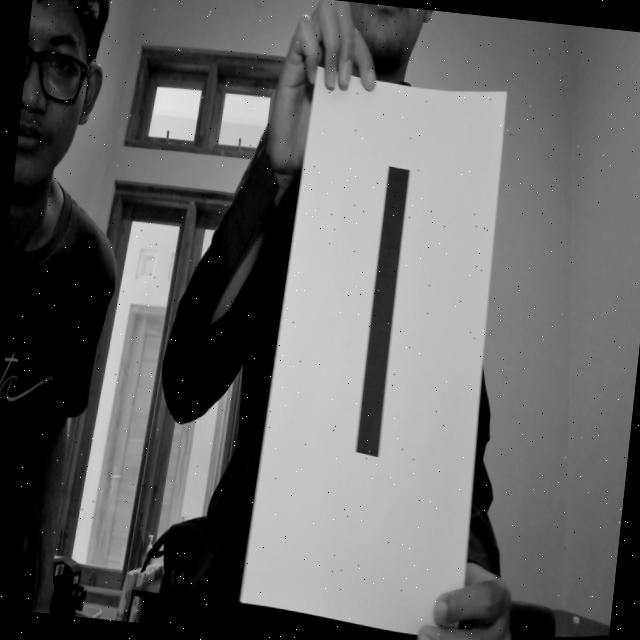i: (330, 144, 424, 488)
